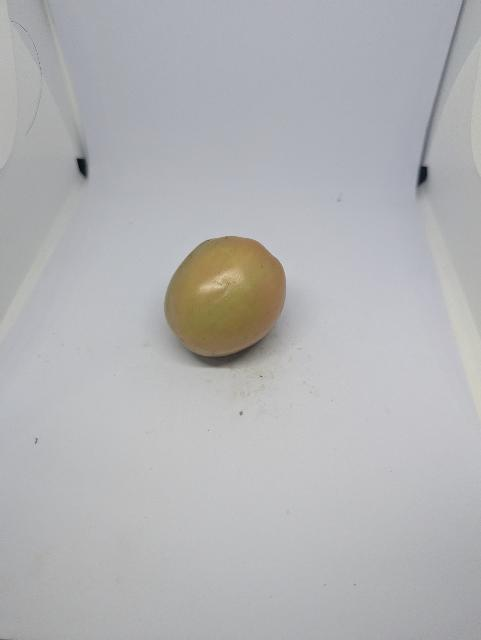breaker: (153, 230, 300, 363)
